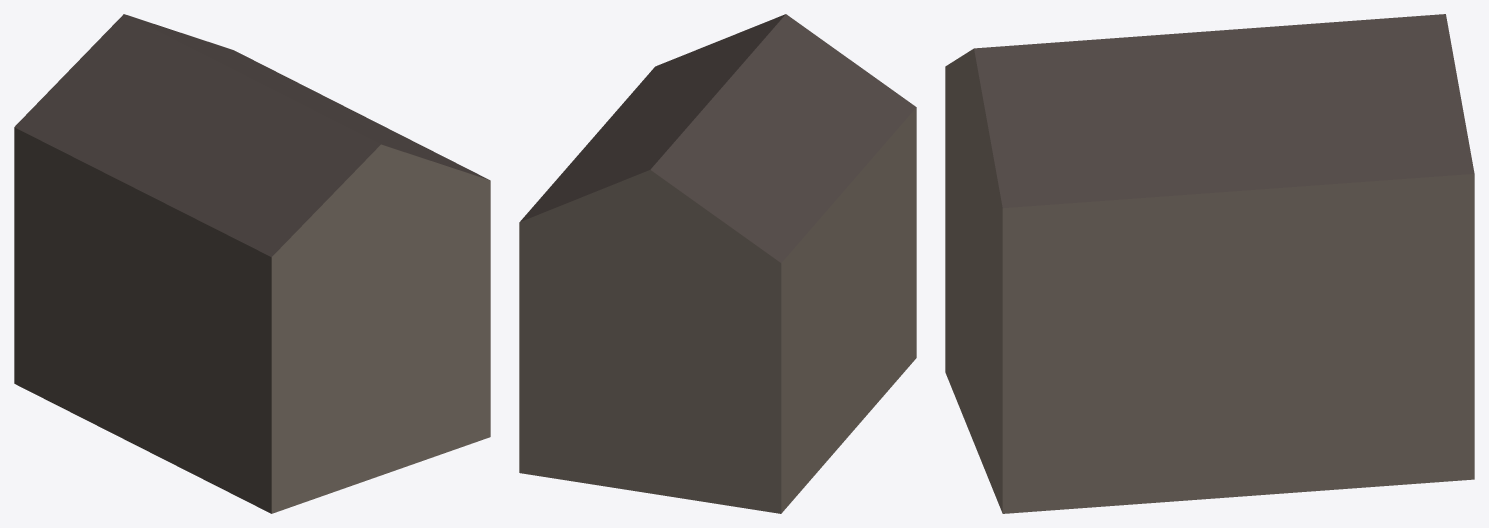
The picture shows the model from 3 angles, left to right: view 1: azimuth 30°, elevation 25°; view 2: azimuth 150°, elevation 25°; view 3: azimuth 270°, elevation 25°; orthographic projection. The views are drawn at different scales.
Parts seen in each view (by area): view 1: HP-w1424106461; view 2: HP-w1424106461; view 3: HP-w1424106461.
Boxes of the visible parts, x1,y1,x2,y2 form: HP-w1424106461: [14, 14, 490, 513]; HP-w1424106461: [519, 14, 916, 513]; HP-w1424106461: [945, 14, 1474, 513].
Size of the model in its own units: 7.41 by 7.75 by 9.41.
